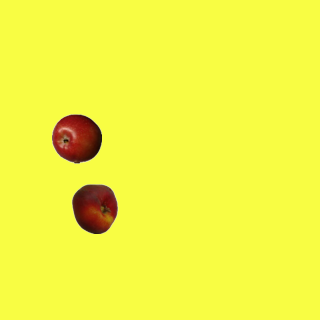Apple Braeburn: (51, 113, 101, 163)
Nectarine Flat: (69, 183, 119, 233)
